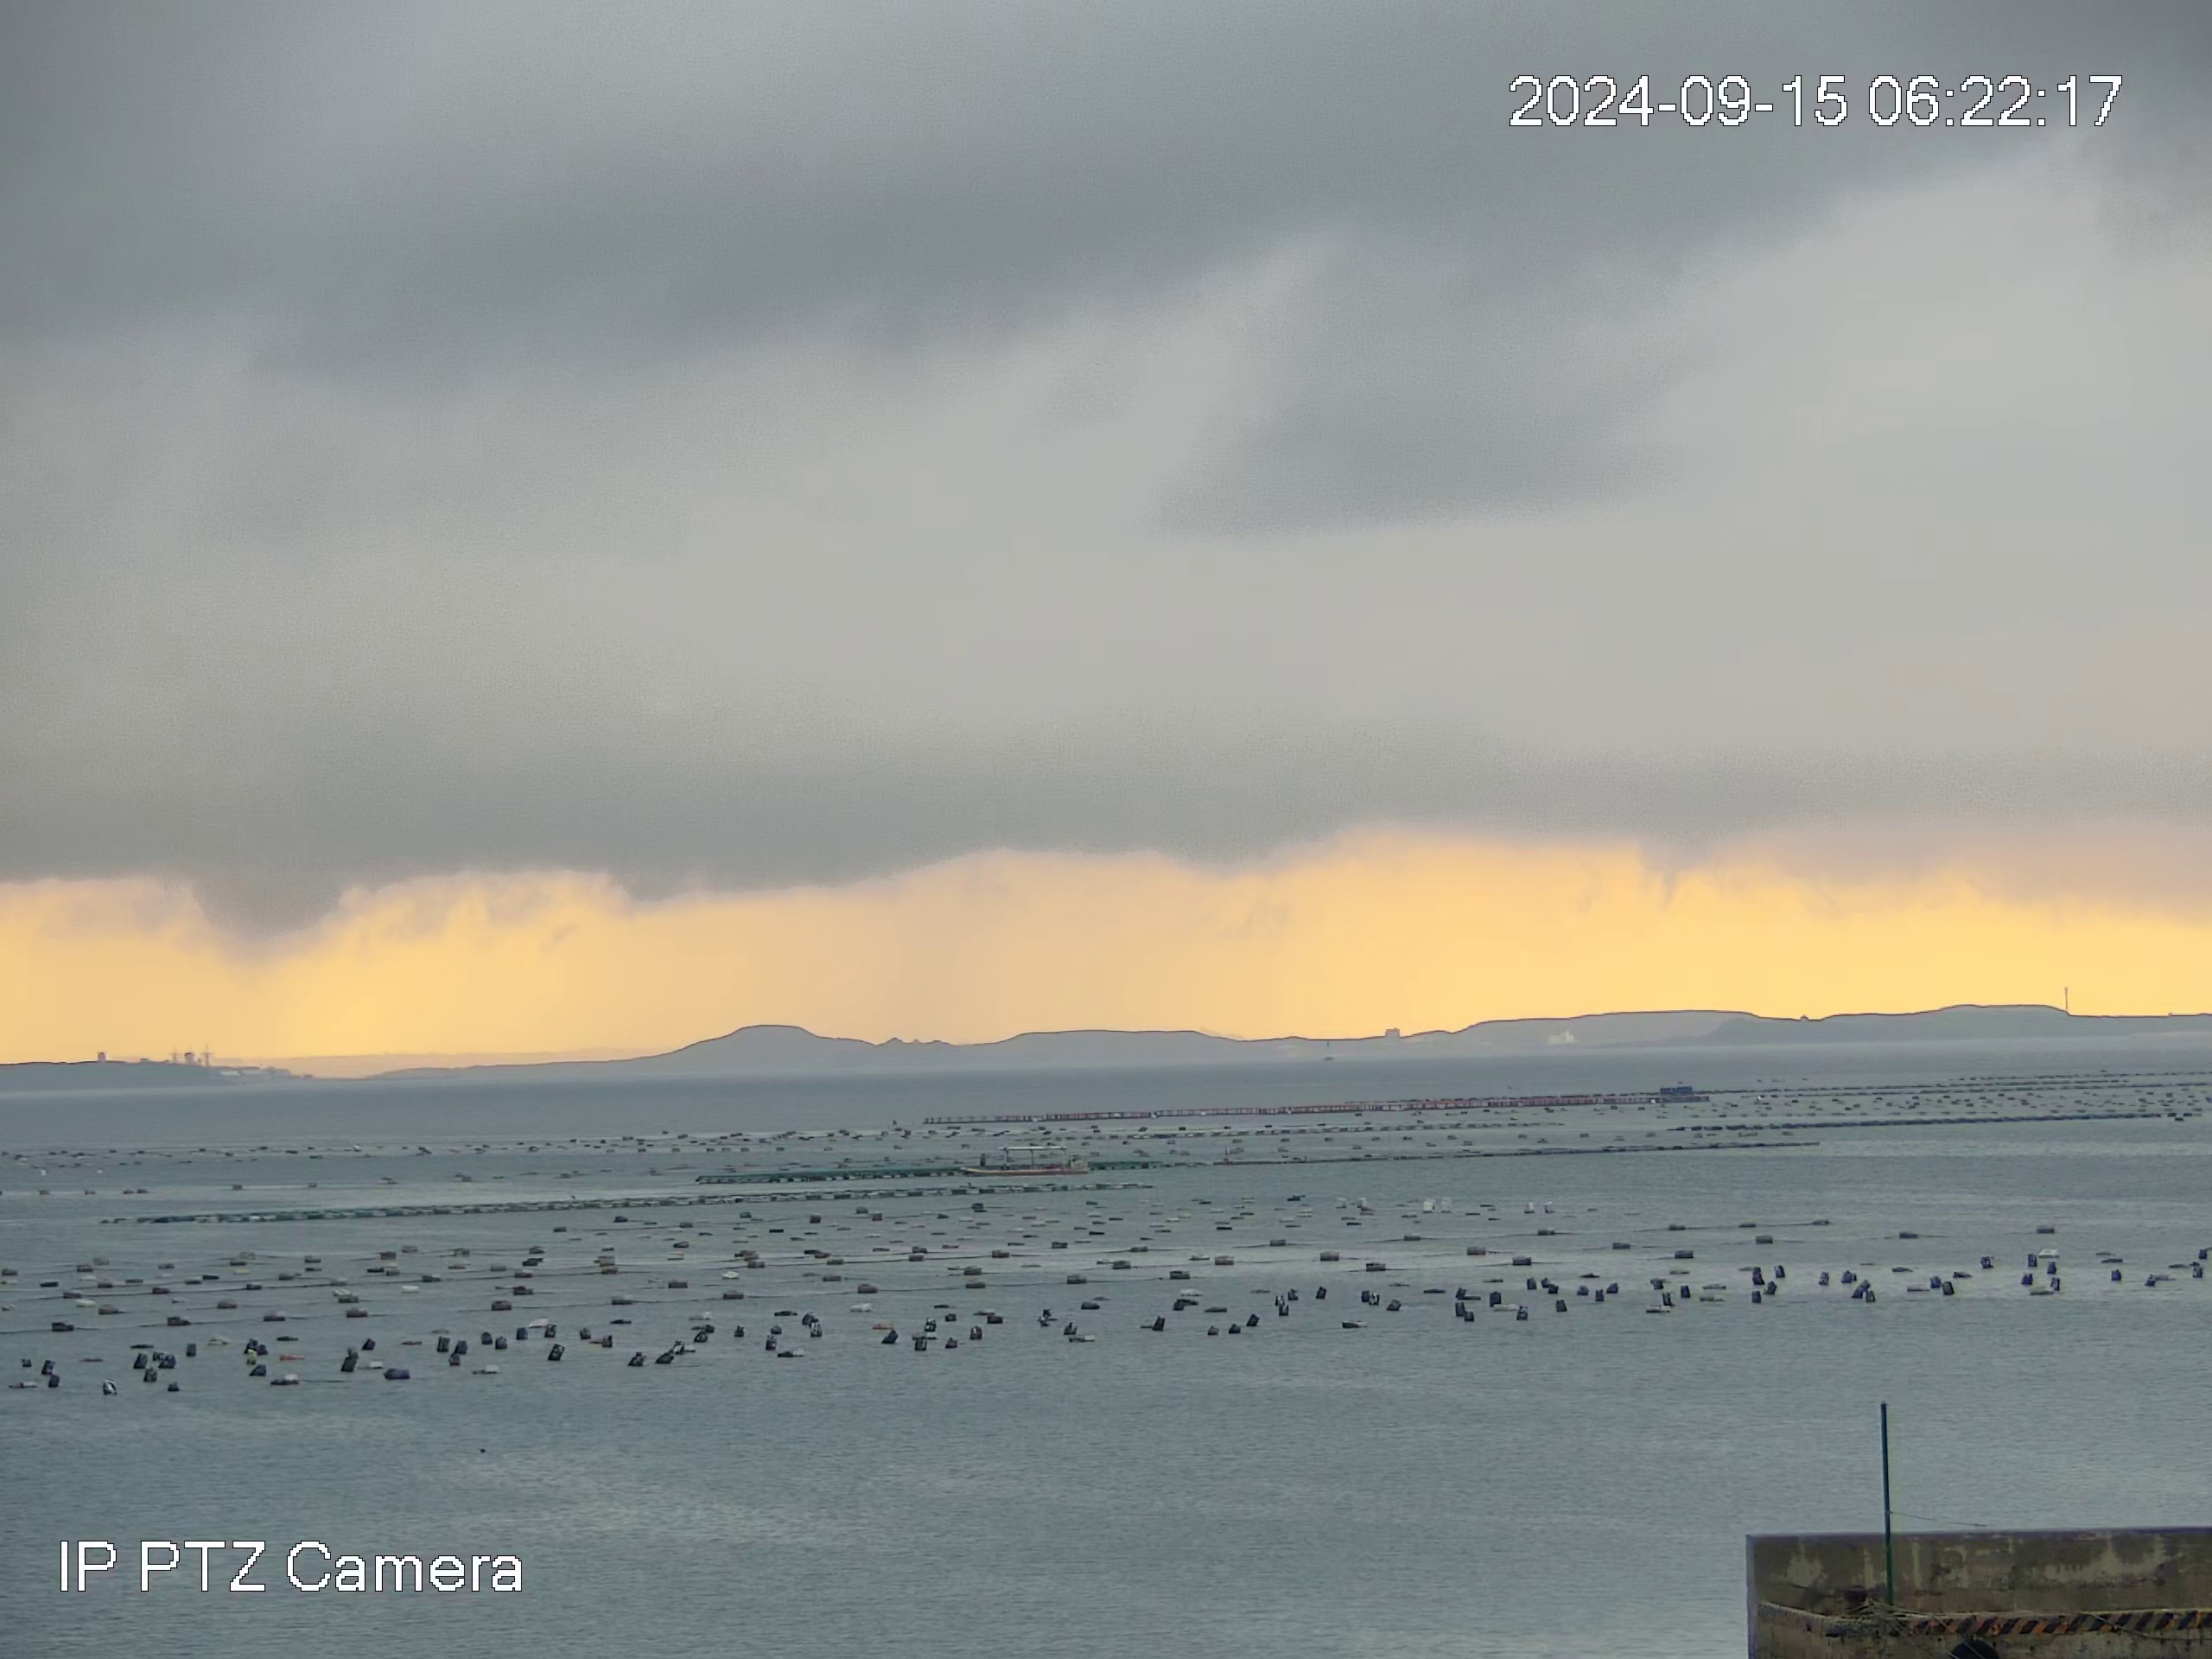boat: (963, 1141, 1092, 1180)
